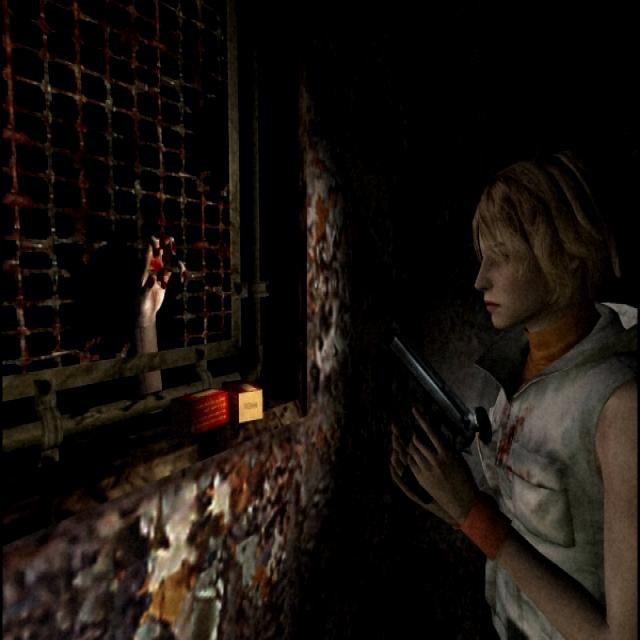pistol: (374, 328, 484, 492)
